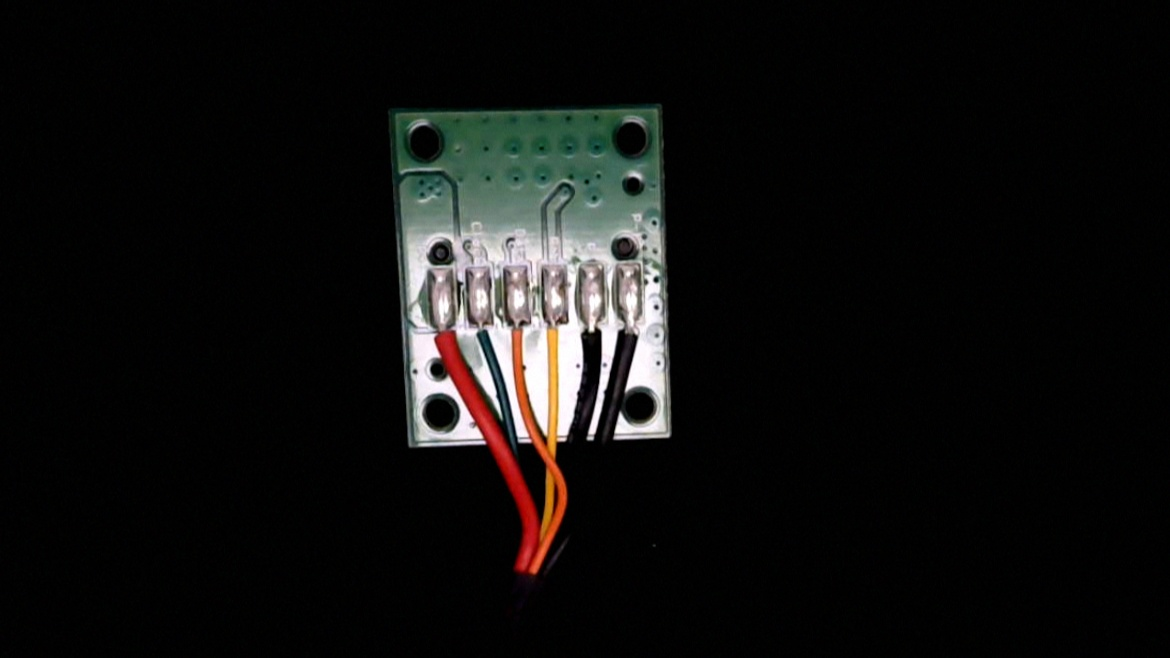Black: (575, 303, 608, 378)
Black1: (616, 299, 648, 368)
Green: (465, 303, 495, 364)
Orange: (504, 307, 533, 378)
Red: (427, 307, 460, 379)
Yellow: (540, 304, 573, 380)
